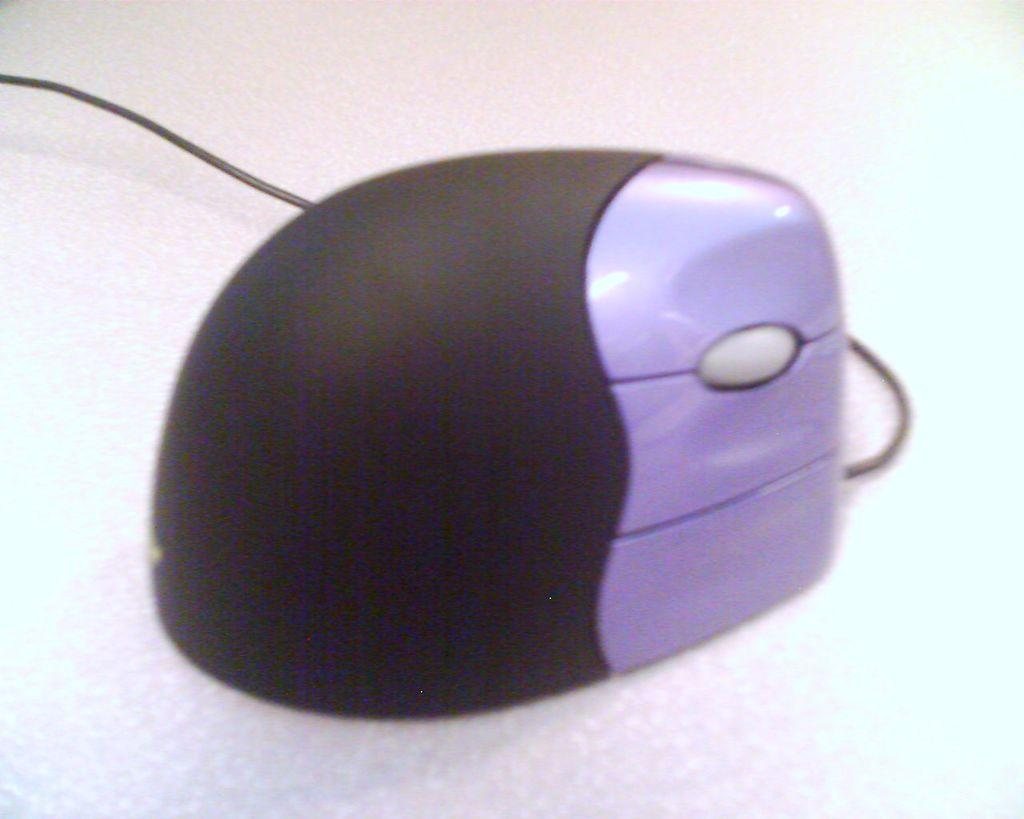Computer-mouse: (144, 145, 841, 719)
